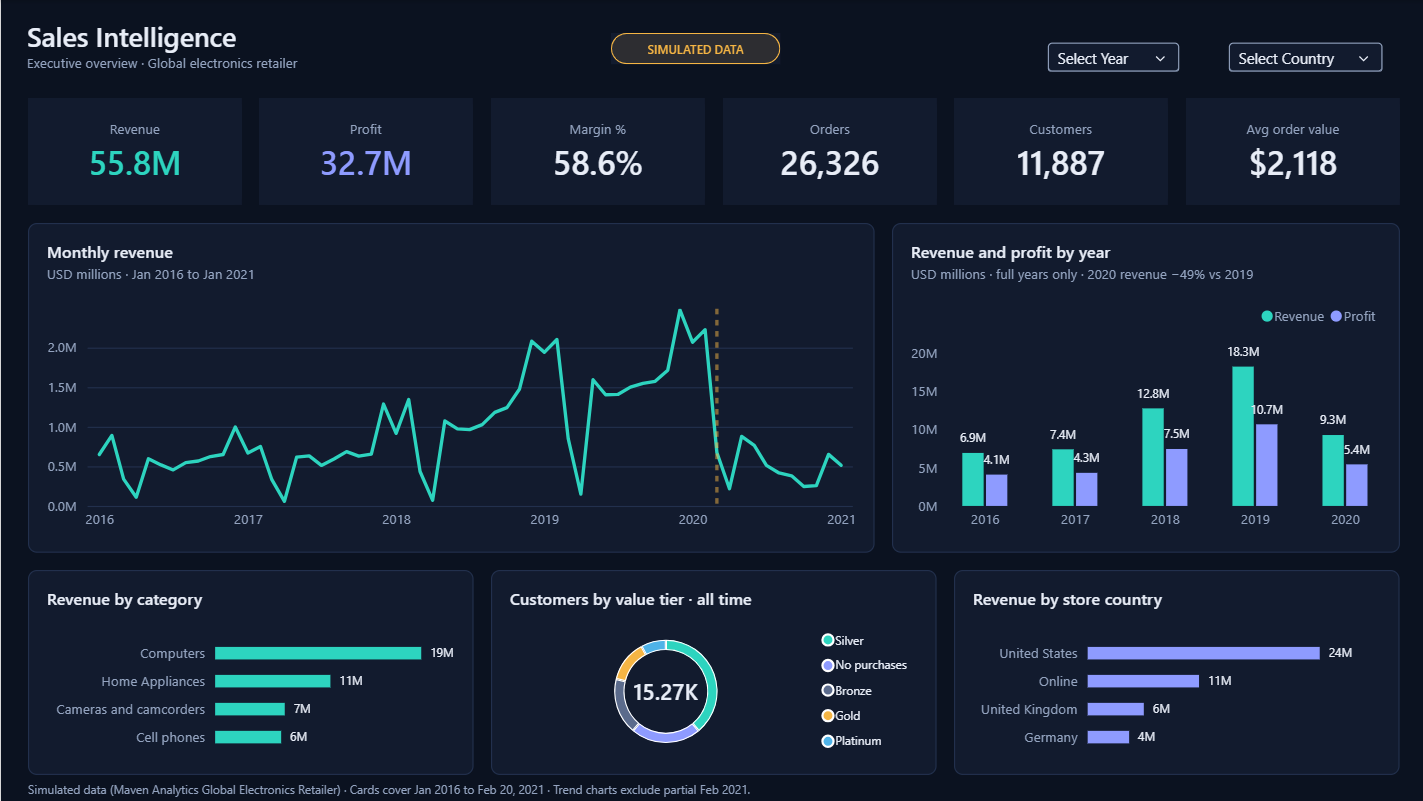

The page's visual inventory and layout, read from the dashboard file:
{"tool":"powerbi","page":{"name":" Executive overview","canvas":[1280,720],"ordinal":0},"visuals":[{"type":"textbox","box":[23.8,16.2,520,56.2],"z":0},{"type":"shape","box":[548,30,152,28],"z":1000},{"type":"listSlicer","fields":{"Values":["dim_date.year"]},"box":[924,24,150,40],"z":2000},{"type":"listSlicer","fields":{"Values":["dim_stores.country"]},"box":[1086,24,170,40],"z":3000},{"type":"cardVisual","fields":{"Data":["fact_sales.Revenue"]},"box":[24,88,192,96],"z":4000},{"type":"cardVisual","fields":{"Data":["fact_sales.Profit"]},"box":[232,88,192,96],"z":5000},{"type":"cardVisual","fields":{"Data":["fact_sales.Margin %"]},"box":[440,88,192,96],"z":6000},{"type":"cardVisual","fields":{"Data":["fact_sales.Customers card"]},"box":[856,88,192,96],"z":7000},{"type":"cardVisual","fields":{"Data":["fact_sales.Avg order value card"]},"box":[1064,88,192,96],"z":8000},{"type":"cardVisual","fields":{"Data":["fact_sales.Orders card"]},"box":[648,88,192,96],"z":9000},{"type":"lineChart","title":"Monthly revenue","fields":{"Category":["dim_date.Month start"],"Y":["fact_sales.Revenue"]},"box":[24,200,760,296],"z":10000},{"type":"clusteredColumnChart","title":"Revenue and profit by year","fields":{"Category":["dim_date.year"],"Y":["fact_sales.Revenue","fact_sales.Profit"]},"box":[800,200,456,296],"z":11000},{"type":"clusteredBarChart","title":"Revenue by category","fields":{"Category":["dim_products.category"],"Y":["fact_sales.Revenue"]},"box":[24,512,400,184],"z":12000},{"type":"clusteredBarChart","title":"Revenue by store country","fields":{"Category":["dim_stores.country"],"Y":["fact_sales.Revenue"]},"box":[856,512,400,184],"z":13000},{"type":"donutChart","title":"Customers by value tier · all time","fields":{"Category":["customer_segments.value_tier"],"Y":["Count(customer_segments.customer_key)"]},"box":[440,512,400,184],"z":14000},{"type":"textbox","box":[24,700,1000,16],"z":15000}]}

Visuals, with their boxes in screenshot pixels (x1, y1, x2, y2), scaled from the page's 1280x720 canvas onto the 1423x801 screenshot:
textbox: bbox=(26, 18, 605, 81)
shape: bbox=(609, 33, 778, 65)
listSlicer - dim_date.year: bbox=(1027, 27, 1194, 71)
listSlicer - dim_stores.country: bbox=(1207, 27, 1396, 71)
cardVisual - fact_sales.Revenue: bbox=(27, 98, 240, 205)
cardVisual - fact_sales.Profit: bbox=(258, 98, 471, 205)
cardVisual - fact_sales.Margin %: bbox=(489, 98, 703, 205)
cardVisual - fact_sales.Customers card: bbox=(952, 98, 1165, 205)
cardVisual - fact_sales.Avg order value card: bbox=(1183, 98, 1396, 205)
cardVisual - fact_sales.Orders card: bbox=(720, 98, 934, 205)
"Monthly revenue" lineChart: bbox=(27, 222, 872, 552)
"Revenue and profit by year" clusteredColumnChart: bbox=(889, 222, 1396, 552)
"Revenue by category" clusteredBarChart: bbox=(27, 570, 471, 774)
"Revenue by store country" clusteredBarChart: bbox=(952, 570, 1396, 774)
"Customers by value tier · all time" donutChart: bbox=(489, 570, 934, 774)
textbox: bbox=(27, 779, 1138, 797)
